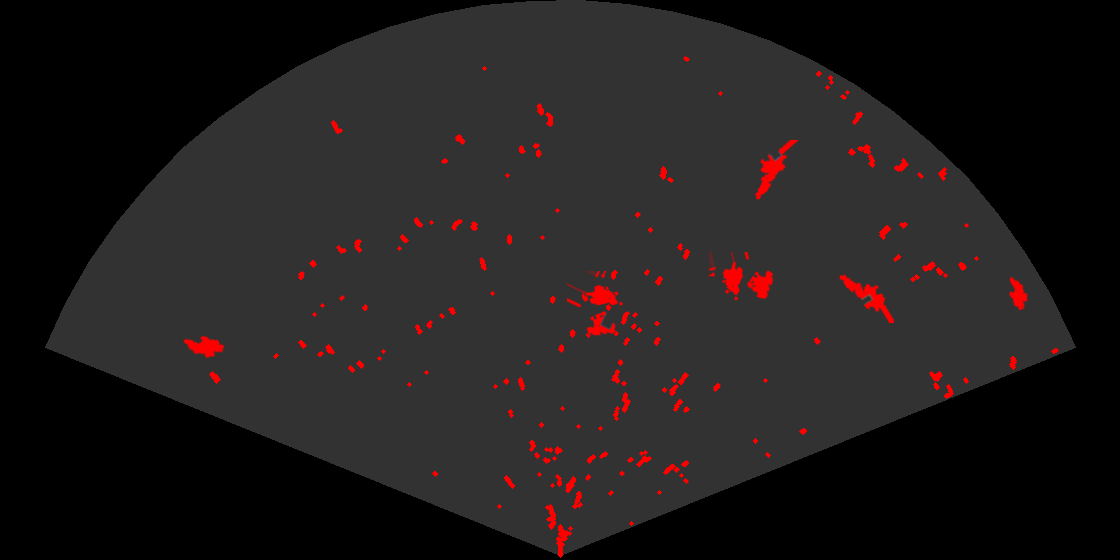AUV: (181, 334, 226, 360), (1007, 275, 1030, 312)
cage: (567, 271, 624, 337), (709, 252, 775, 302)
frogman: (753, 140, 800, 201), (838, 273, 894, 323)
